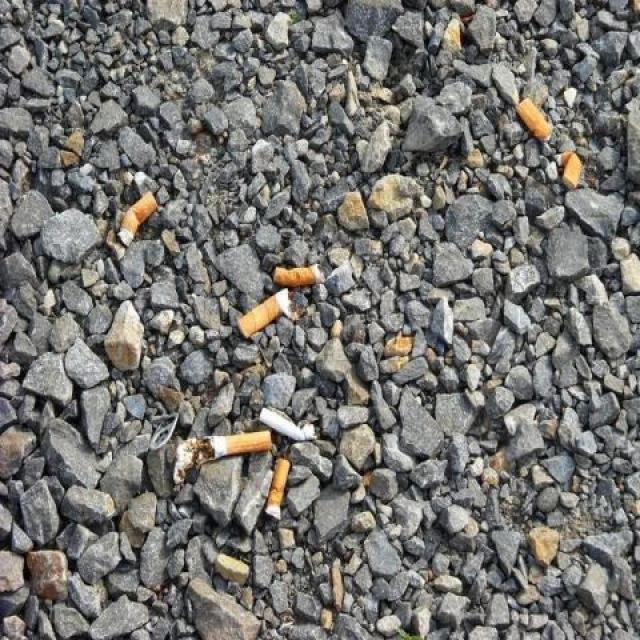non-organic waste: (109, 184, 162, 256), (237, 286, 303, 343), (517, 91, 563, 156), (193, 427, 274, 462), (261, 449, 298, 524), (557, 144, 590, 197), (272, 260, 328, 289)
